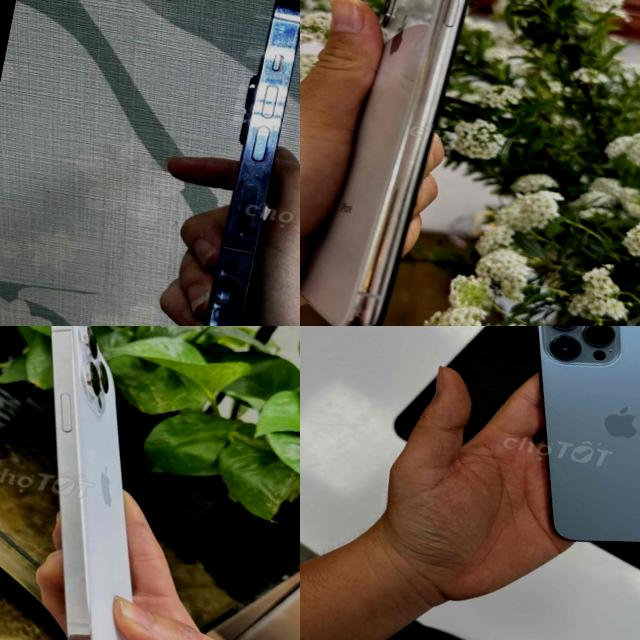gen_12_13: (148, 0, 300, 326), (487, 326, 640, 571)
gen_14: (0, 326, 232, 640)
gen_x_xs: (300, 0, 500, 326)
scratch: (217, 57, 298, 257)
